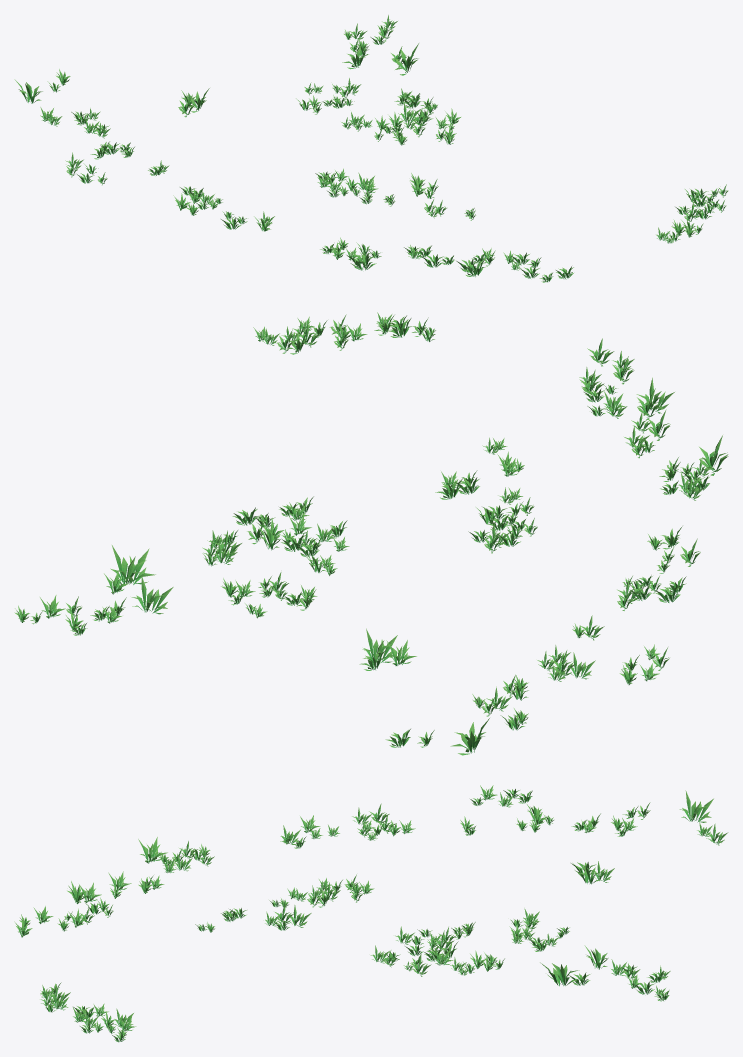
The model's file is area_12_11.fbx.
3 views of the same model, one above another, from view 1: azimuth 30°, elevation 25°; view 2: azimuth 150°, elevation 25°; view 3: azimuth 270°, elevation 25° (orthographic). The views are drawn at different scales.
Visible parts, largest first — view 1: area_12_11; view 2: area_12_11; view 3: area_12_11.
Part boxes in pixels (<box>): area_12_11: <box>14,15,728,282</box>; area_12_11: <box>14,312,728,755</box>; area_12_11: <box>14,785,728,1042</box>.
Size of the model in its own units: 37.4 by 2.02 by 45.36.
